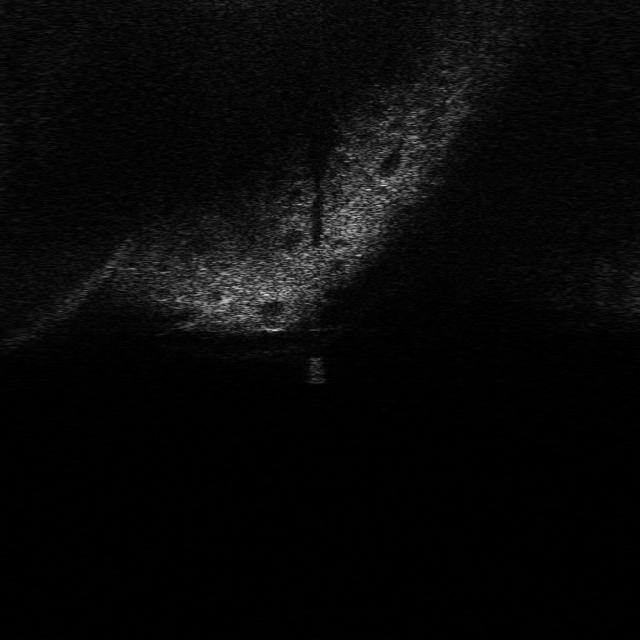cylinder: (302, 352, 332, 388)
